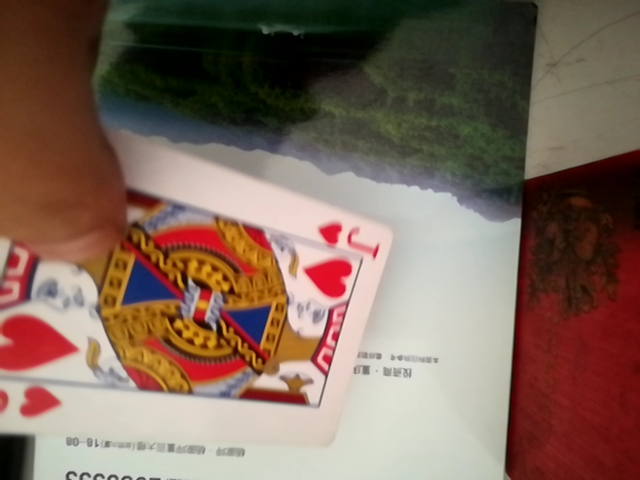hx j: (0, 133, 410, 462)
